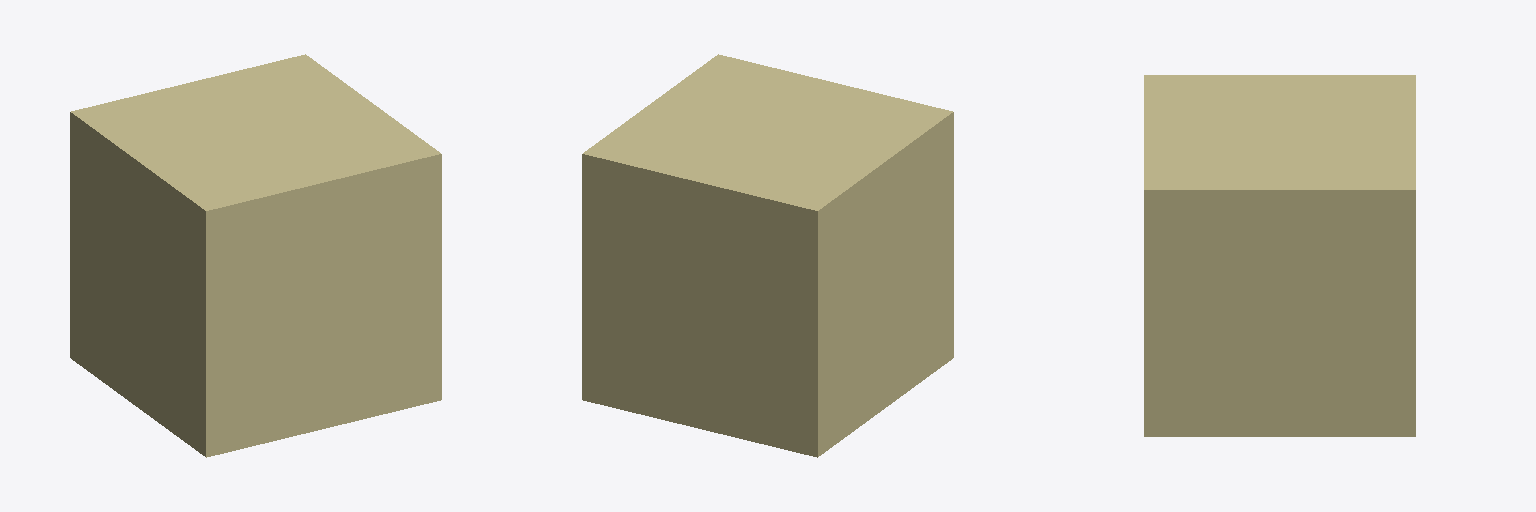
3 views of the same model, side by side, from view 1: azimuth 30°, elevation 25°; view 2: azimuth 150°, elevation 25°; view 3: azimuth 270°, elevation 25° (orthographic).
Visible parts, largest first — view 1: Cube; view 2: Cube; view 3: Cube.
Boxes of the visible parts, x1,y1,x2,y2 form: Cube: [70, 54, 441, 457]; Cube: [582, 54, 953, 457]; Cube: [1144, 75, 1415, 436].
Bounding box in the file's own units: 1 × 1 × 1.
Materials: 1 (1 with a texture image).